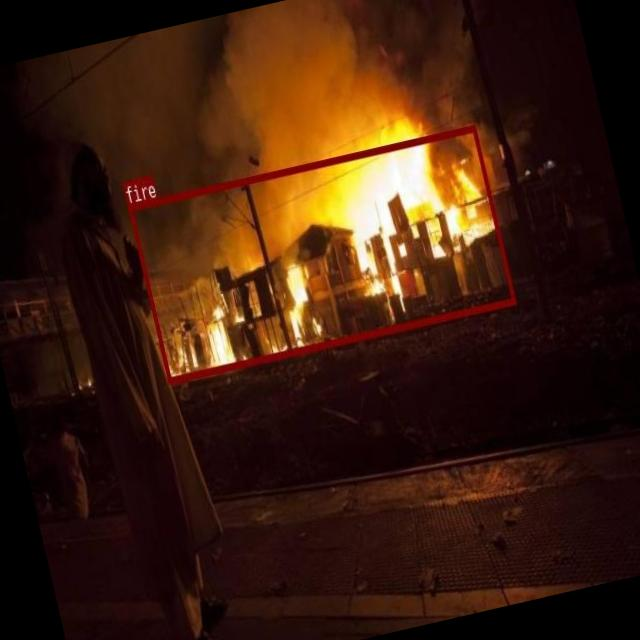fire: (127, 124, 515, 382)
